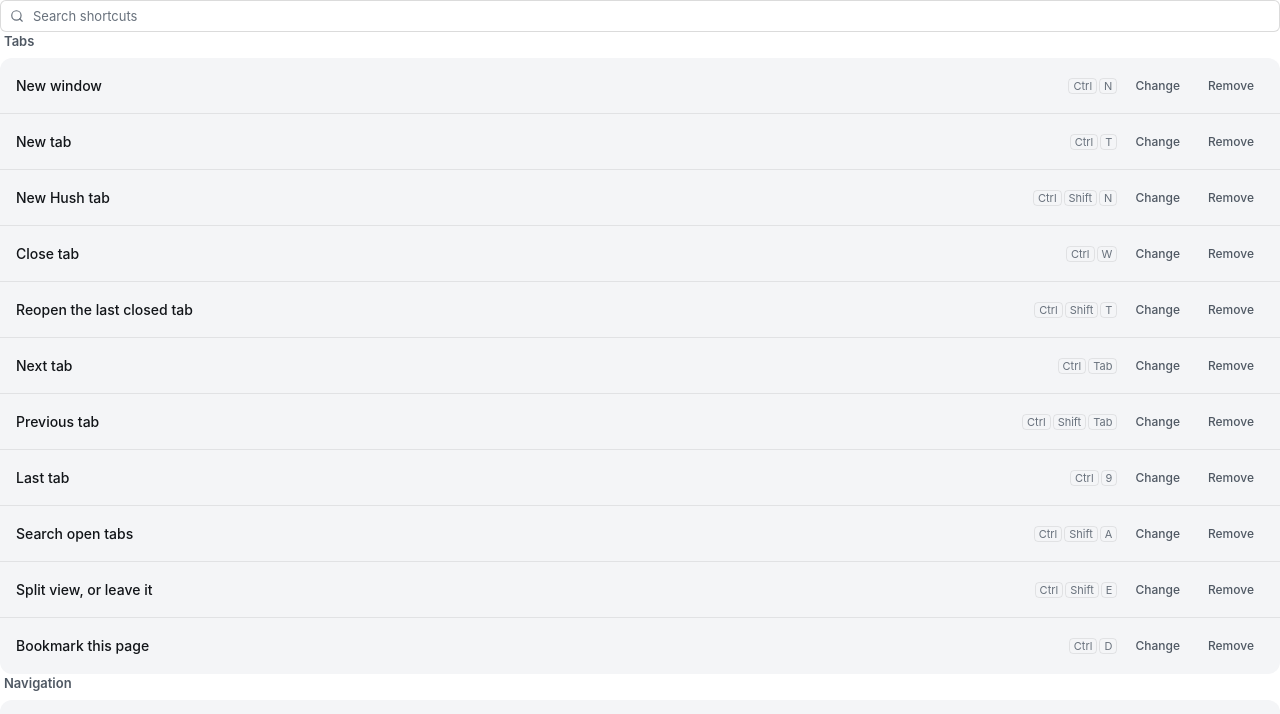
Test: the shortcuts pane › finds a shortcut by what it does
The width and height of the screenshot is (1280, 714).
In the search field labelled "Search shortcuts": (640, 16) [0, 0, 1279, 32], type "zoom"
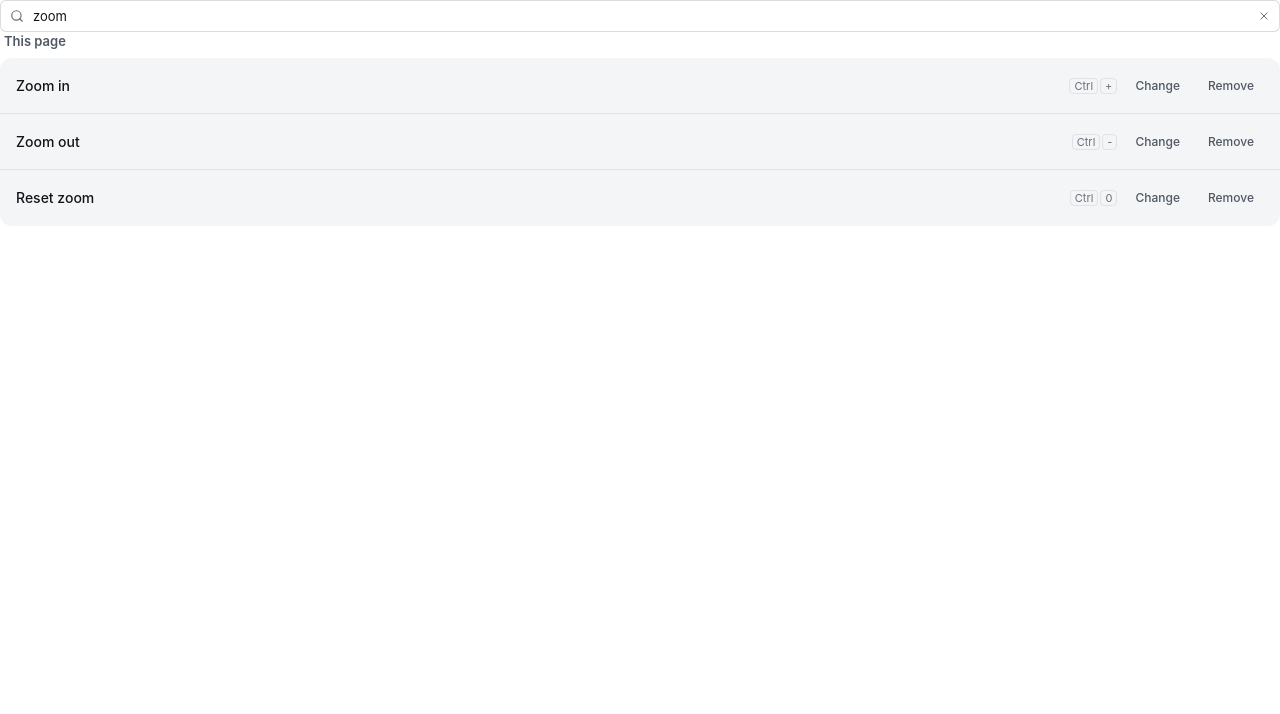
expect the text "Zoom in" is shown: met, box [16, 76, 70, 96]
expect the text "New tab" is gone: met
